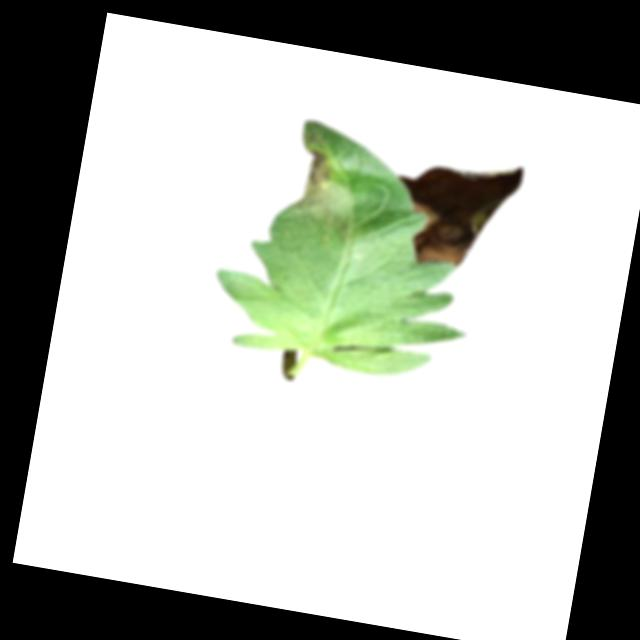Late_blight: (382, 145, 526, 278), (286, 144, 364, 240)
